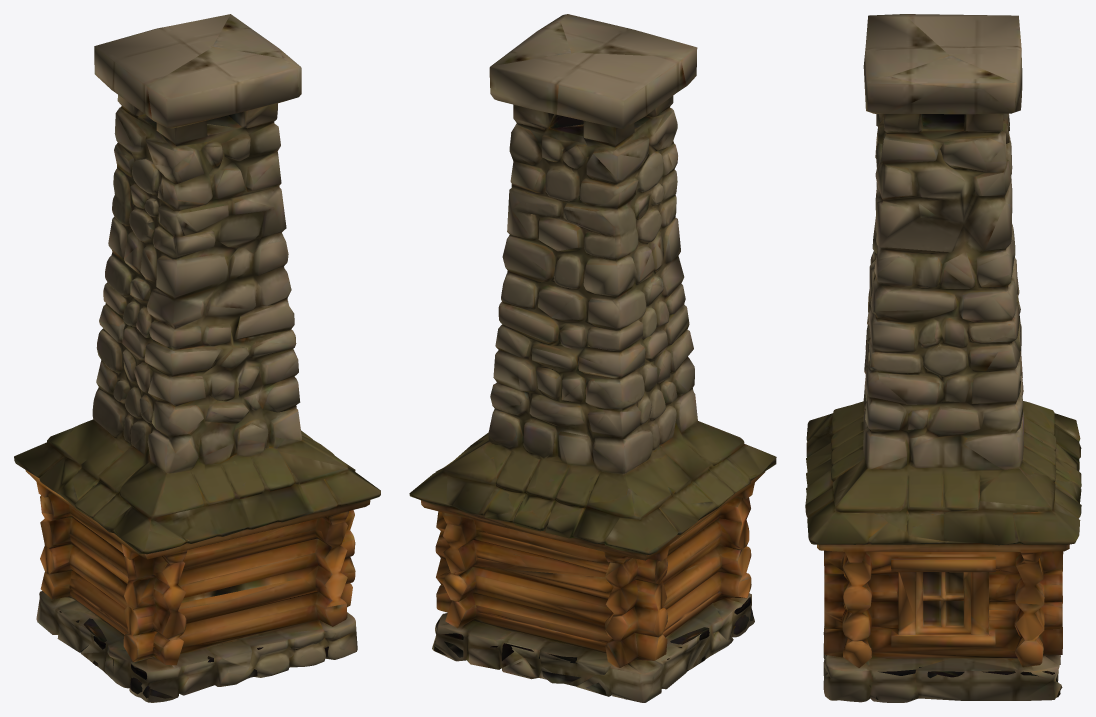
Rendered from stone_chimney_hearth.glb.
3 renders of one model, left to right at view 1: azimuth 30°, elevation 25°; view 2: azimuth 150°, elevation 25°; view 3: azimuth 270°, elevation 25°, orthographic. The views are drawn at different scales.
Visible parts, largest first — view 1: node_0; view 2: node_0; view 3: node_0.
Boxes of the visible parts, left/top/right/bottom form: node_0: left=14, top=14, right=380, bottom=702; node_0: left=409, top=14, right=776, bottom=702; node_0: left=805, top=14, right=1081, bottom=702.
Bounding box in the file's own units: 0.4776 × 1.08 × 0.4472.
Materials: 1 (1 with a texture image).
